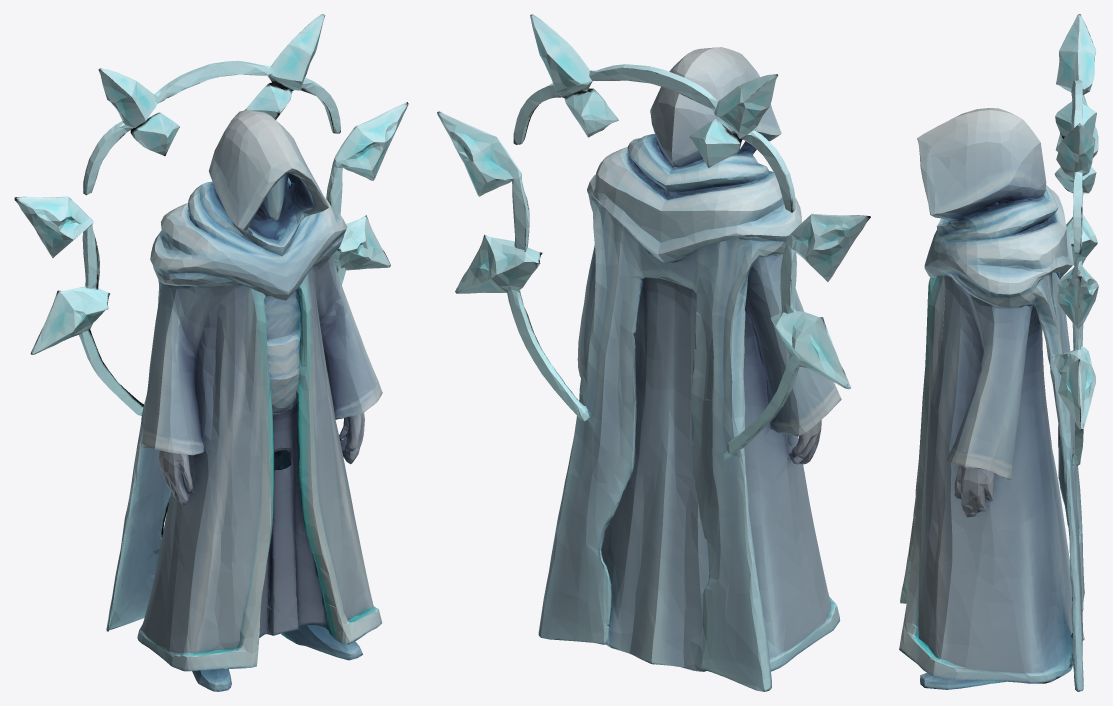
File: Unit-14.glb
3 renders of one model, left to right at view 1: azimuth 30°, elevation 25°; view 2: azimuth 150°, elevation 25°; view 3: azimuth 270°, elevation 25°, orthographic. The views are drawn at different scales.
Visible parts, largest first — view 1: world; view 2: world; view 3: world.
Boxes of the visible parts, x1,y1,x2,y2 form: world: (14, 14, 408, 691); world: (437, 14, 870, 691); world: (899, 14, 1098, 691).
Bounding box in the file's own units: 0.7156 × 0.9995 × 0.3104.
Materials: 1 (1 with a texture image).
